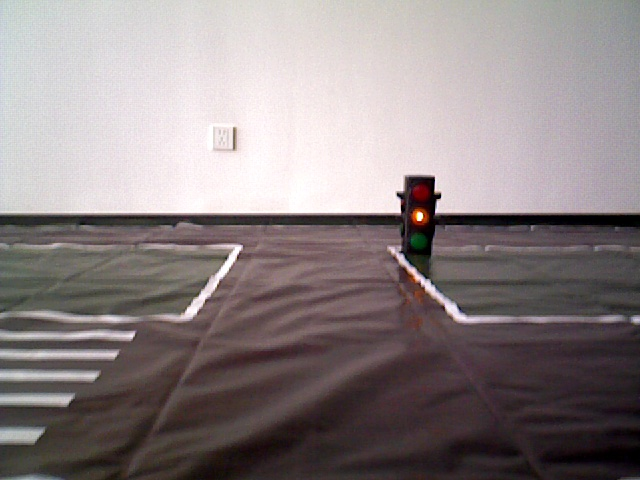yellow: (396, 171, 441, 256)
